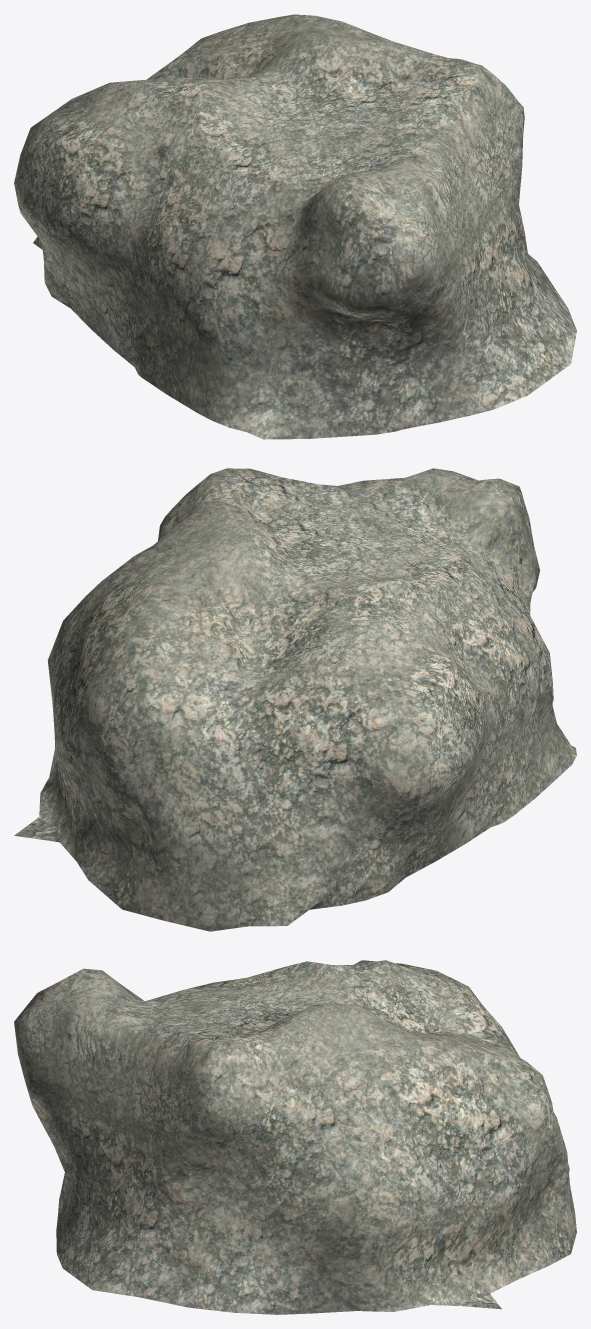
File: Stone_003.DAE
3 views of the same model, one above another, from view 1: azimuth 30°, elevation 25°; view 2: azimuth 150°, elevation 25°; view 3: azimuth 270°, elevation 25° (orthographic). The views are drawn at different scales.
Visible parts, largest first — view 1: StoneOOThree200; view 2: StoneOOThree200; view 3: StoneOOThree200.
Boxes of the visible parts, left/top/right/bottom form: StoneOOThree200: left=14, top=14, right=576, bottom=439; StoneOOThree200: left=14, top=468, right=576, bottom=931; StoneOOThree200: left=14, top=960, right=576, bottom=1314.
Size of what is drawn, in the model's own units: 4.9 by 6.02 by 2.99.
